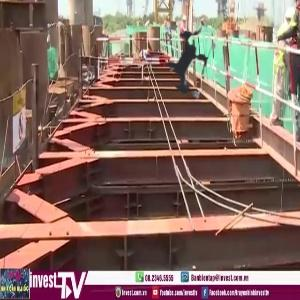drone: (134, 5, 245, 116)
